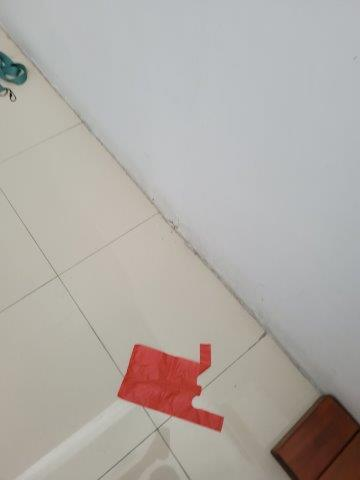plastik: (115, 343, 224, 434)
